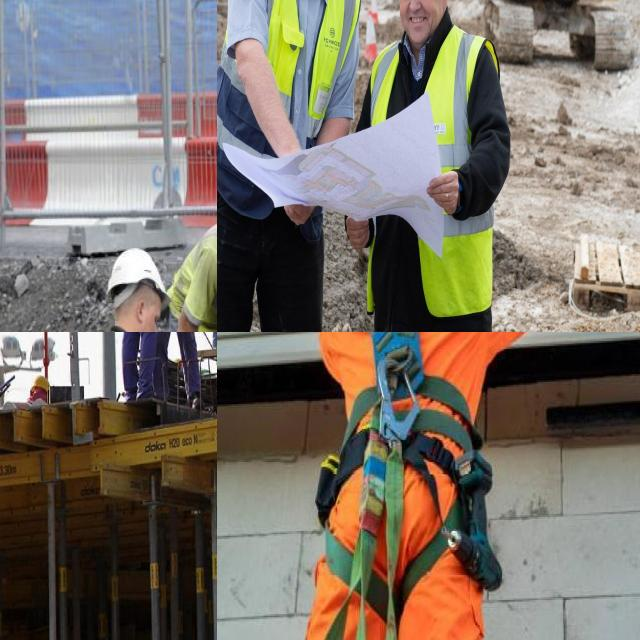Harness: (317, 332, 502, 640)
face_nomask: (399, 0, 441, 44), (135, 302, 164, 332)
hand_noglove: (426, 163, 462, 220)
head_helmet: (104, 248, 168, 304)
person: (217, 0, 354, 332), (369, 0, 505, 332), (83, 247, 207, 332), (113, 332, 150, 410), (154, 332, 199, 394)
vest: (370, 24, 500, 318), (217, 0, 356, 183), (165, 209, 217, 332)
